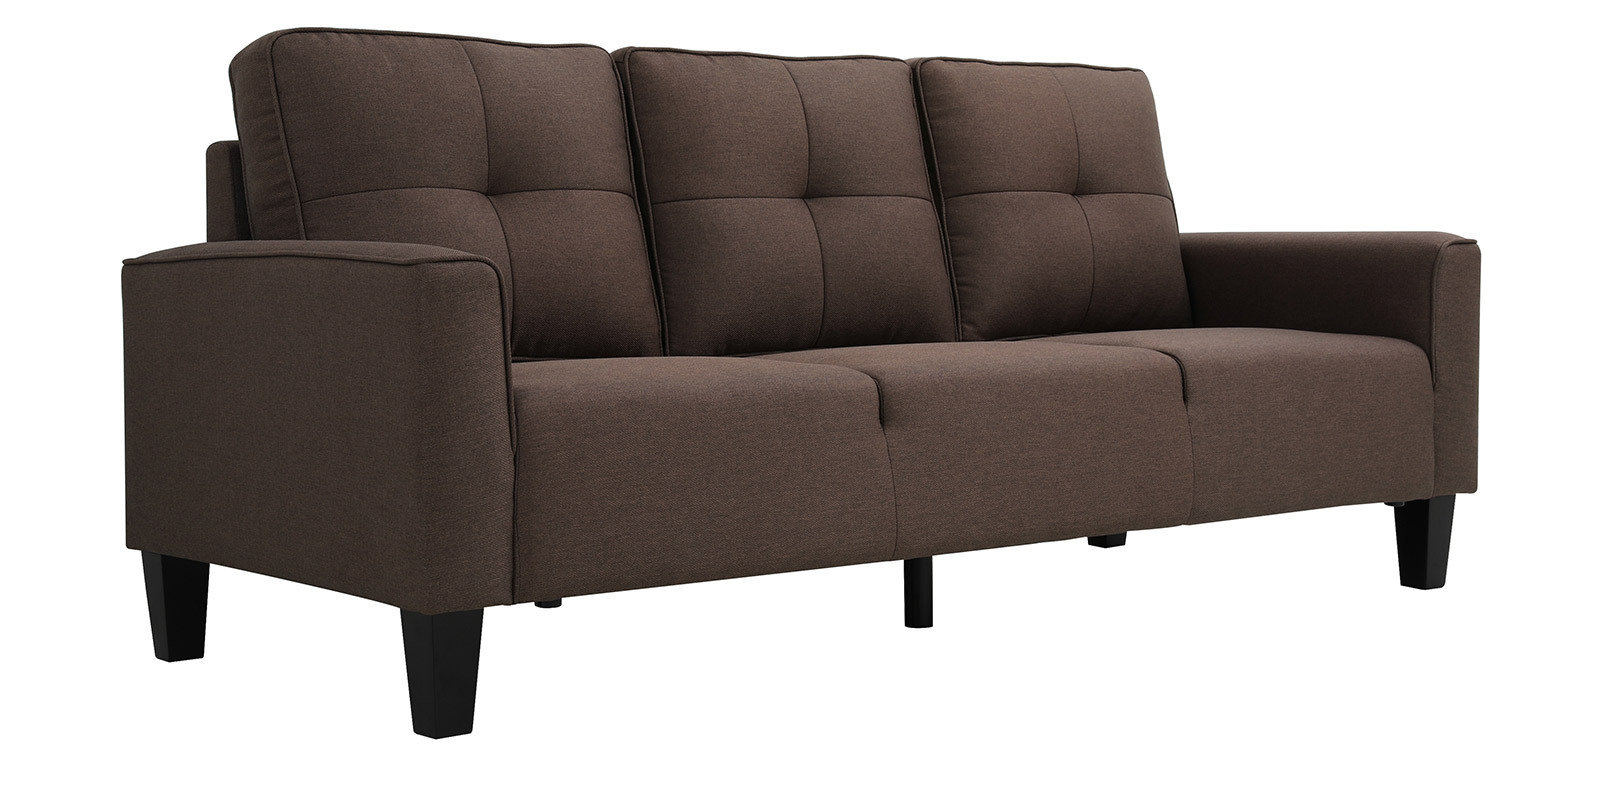Alice Three Seater Sofa in Brown Colour by Zofa: (111, 21, 1495, 730)
